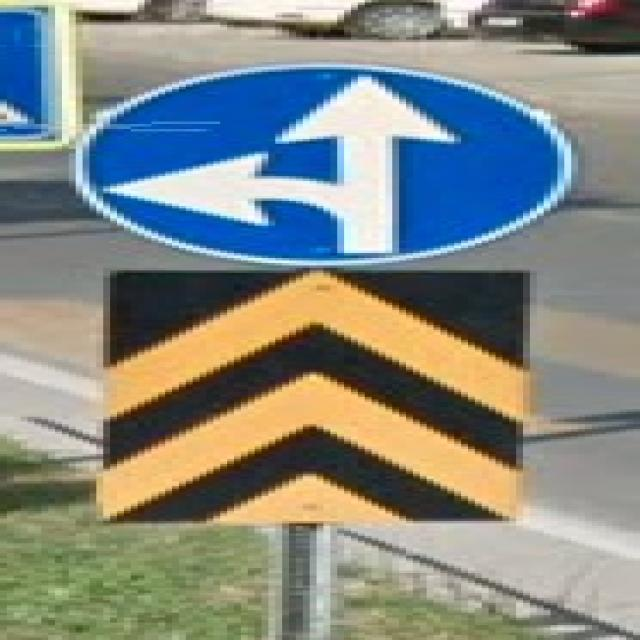Straight or Left: (70, 65, 572, 264)
